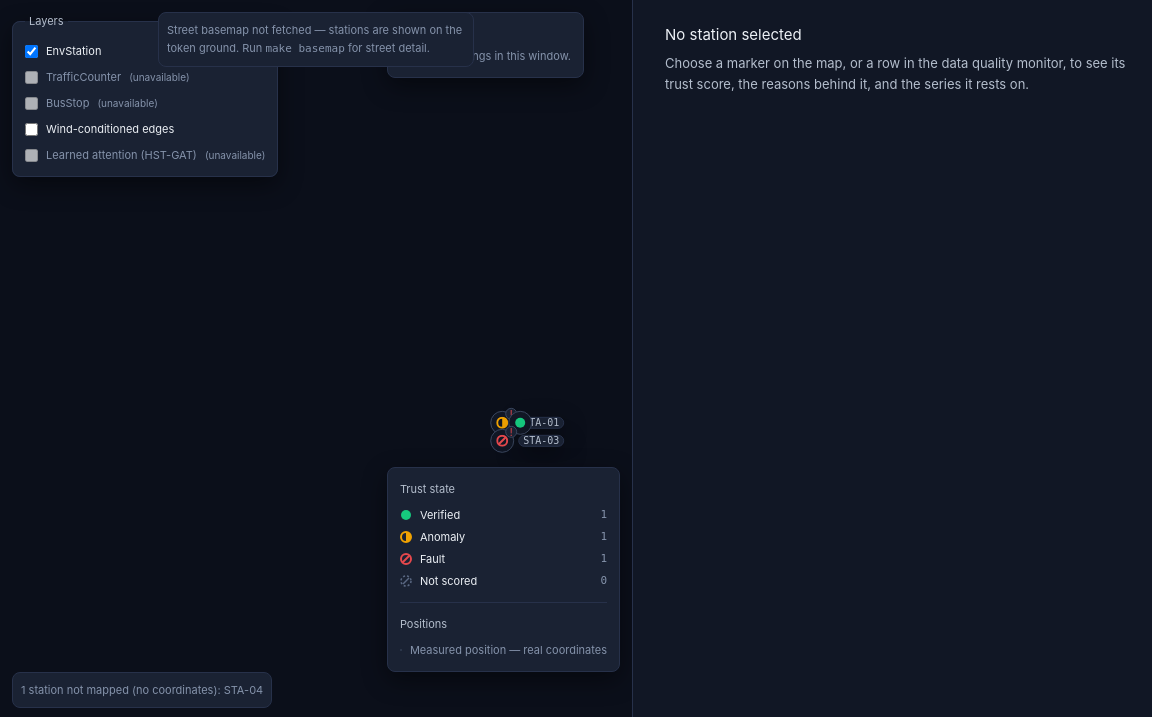
NetworkMap › opens the station detail when a marker is activated
The width and height of the screenshot is (1152, 717).
Step 1. Click the button with test id "station-marker" next to "STA-01" → {"x": 502, "y": 423}, box [490,411,514,435]
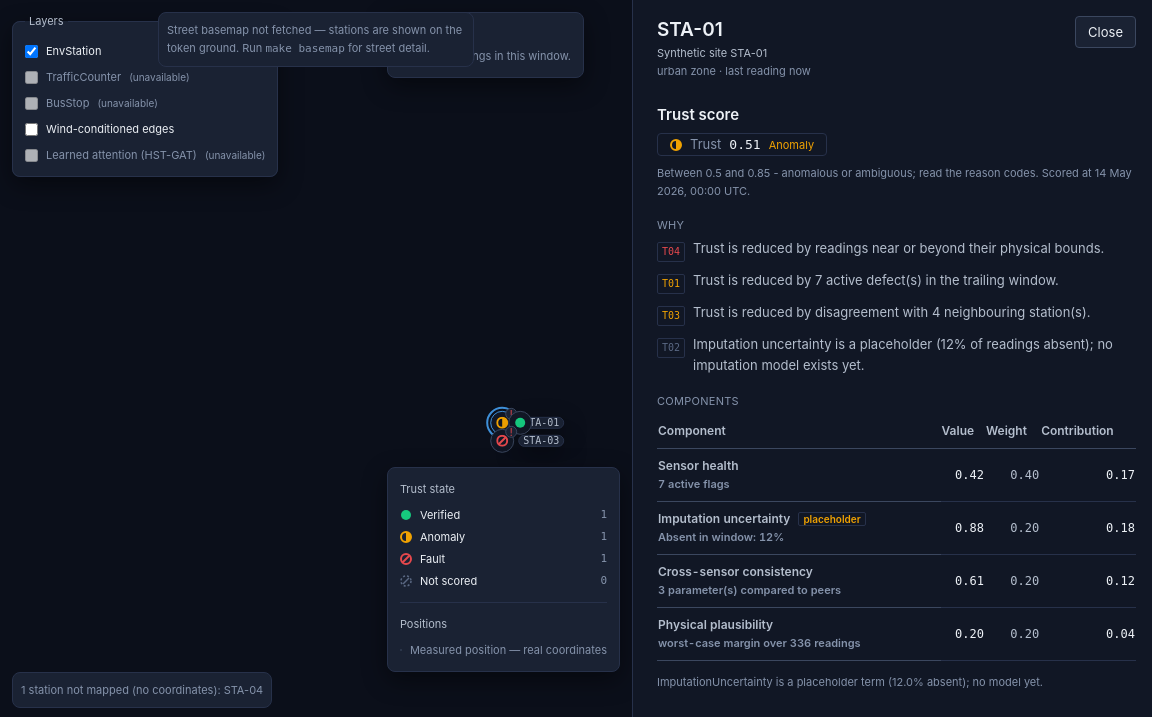
Expected: the heading "STA-01" is shown, [657,18,723,41]
